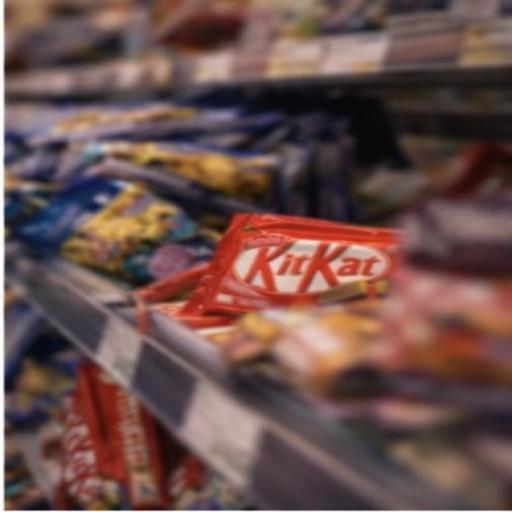kitkat: (157, 177, 494, 372)
